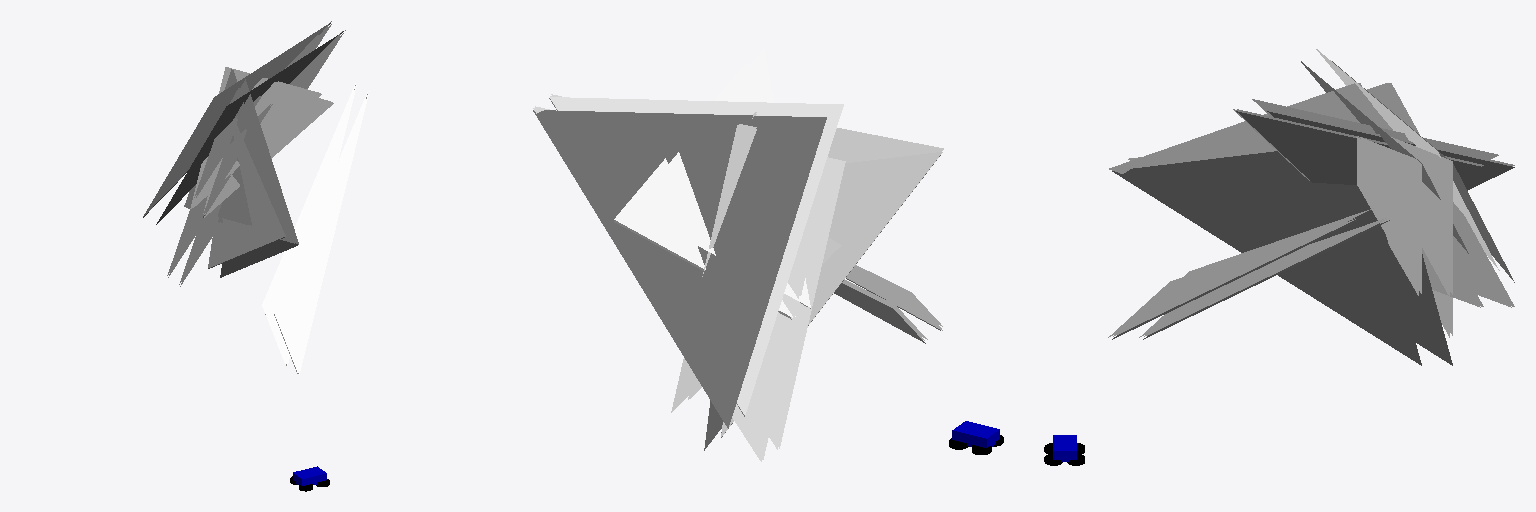
The robot description file, URDF, robot "vehicular":
<?xml version="1.0"?>
<robot name="vehicular" xmlns:xacro="http://www.ros.org/wiki/xacro">

  <!-- Material definitions (matching humanoid) -->
  <material name="blue">
    <color rgba="0 0 0.8 1"/>
  </material>
  <material name="white">
    <color rgba="1 1 1 1"/>
  </material>
  <material name="gray">
    <color rgba="0.5 0.5 0.5 1"/>
  </material>
  <material name="black">
    <color rgba="0 0 0 1"/>
  </material>
  <material name="red">
    <color rgba="0.8 0 0 1"/>
  </material>

  <!-- Base link (shared with humanoid form) -->
  <link name="base_link">
    <visual>
      <geometry>
        <box size="0.1 0.1 0.05"/>
      </geometry>
      <material name="gray"/>
    </visual>
    <collision>
      <geometry>
        <box size="0.1 0.1 0.05"/>
      </geometry>
    </collision>
    <inertial>
      <mass value="1.0"/>
      <inertia ixx="0.01" ixy="0.0" ixz="0.0" iyy="0.01" iyz="0.0" izz="0.01"/>
    </inertial>
  </link>

  <!-- Vehicle Body - compact main chassis -->
  <link name="vehicle_body">
    <visual>
      <geometry>
        <box size="0.6 0.4 0.2"/>
      </geometry>
      <material name="blue"/>
    </visual>
    <collision>
      <geometry>
        <box size="0.6 0.4 0.2"/>
      </geometry>
    </collision>
    <inertial>
      <mass value="15.0"/>
      <inertia ixx="0.3" ixy="0.0" ixz="0.0" iyy="0.2" iyz="0.0" izz="0.15"/>
    </inertial>
  </link>

  <joint name="body_to_base" type="fixed">
    <parent link="base_link"/>
    <child link="vehicle_body"/>
    <origin xyz="0 0 0.1" rpy="0 0 0"/>
  </joint>

  <!-- Front Left Wheel (continuous rotation) -->
  <link name="front_left_wheel">
    <visual>
      <geometry>
        <cylinder length="0.08" radius="0.15"/>
      </geometry>
      <material name="black"/>
    </visual>
    <collision>
      <geometry>
        <cylinder length="0.08" radius="0.14"/>
      </geometry>
    </collision>
    <inertial>
      <mass value="2.0"/>
      <inertia ixx="0.004" ixy="0.0" ixz="0.0" iyy="0.005" iyz="0.0" izz="0.004"/>
    </inertial>
  </link>

  <joint name="front_left_wheel_joint" type="continuous">
    <parent link="vehicle_body"/>
    <child link="front_left_wheel"/>
    <origin xyz="0.2 -0.18 -0.1" rpy="0 0 0"/>
    <axis xyz="0 1 0"/>
  </joint>

  <!-- Front Right Wheel -->
  <link name="front_right_wheel">
    <visual>
      <geometry>
        <cylinder length="0.08" radius="0.15"/>
      </geometry>
      <material name="black"/>
    </visual>
    <collision>
      <geometry>
        <cylinder length="0.08" radius="0.14"/>
      </geometry>
    </collision>
    <inertial>
      <mass value="2.0"/>
      <inertia ixx="0.004" ixy="0.0" ixz="0.0" iyy="0.005" iyz="0.0" izz="0.004"/>
    </inertial>
  </link>

  <joint name="front_right_wheel_joint" type="continuous">
    <parent link="vehicle_body"/>
    <child link="front_right_wheel"/>
    <origin xyz="0.2 0.18 -0.1" rpy="0 0 0"/>
    <axis xyz="0 1 0"/>
  </joint>

  <!-- Rear Left Wheel -->
  <link name="rear_left_wheel">
    <visual>
      <geometry>
        <cylinder length="0.08" radius="0.15"/>
      </geometry>
      <material name="black"/>
    </visual>
    <collision>
      <geometry>
        <cylinder length="0.08" radius="0.14"/>
      </geometry>
    </collision>
    <inertial>
      <mass value="2.0"/>
      <inertia ixx="0.004" ixy="0.0" ixz="0.0" iyy="0.005" iyz="0.0" izz="0.004"/>
    </inertial>
  </link>

  <joint name="rear_left_wheel_joint" type="continuous">
    <parent link="vehicle_body"/>
    <child link="rear_left_wheel"/>
    <origin xyz="-0.2 -0.18 -0.1" rpy="0 0 0"/>
    <axis xyz="0 1 0"/>
  </joint>

  <!-- Rear Right Wheel -->
  <link name="rear_right_wheel">
    <visual>
      <geometry>
        <cylinder length="0.08" radius="0.15"/>
      </geometry>
      <material name="black"/>
    </visual>
    <collision>
      <geometry>
        <cylinder length="0.08" radius="0.14"/>
      </geometry>
    </collision>
    <inertial>
      <mass value="2.0"/>
      <inertia ixx="0.004" ixy="0.0" ixz="0.0" iyy="0.005" iyz="0.0" izz="0.004"/>
    </inertial>
  </link>

  <joint name="rear_right_wheel_joint" type="continuous">
    <parent link="vehicle_body"/>
    <child link="rear_right_wheel"/>
    <origin xyz="-0.2 0.18 -0.1" rpy="0 0 0"/>
    <axis xyz="0 1 0"/>
  </joint>

  <!-- Head Pan Link (sensor mount) -->
  <link name="head_pan_link">
    <visual>
      <geometry>
        <mesh filename="package://transformer_description/meshes/head_base.stl"/>
      </geometry>
      <material name="white"/>
    </visual>
    <collision>
      <geometry>
        <box size="0.1 0.1 0.08"/>
      </geometry>
    </collision>
    <inertial>
      <mass value="1.0"/>
      <inertia ixx="0.005" ixy="0.0" ixz="0.0" iyy="0.005" iyz="0.0" izz="0.003"/>
    </inertial>
  </link>

  <joint name="head_pan" type="revolute">
    <parent link="vehicle_body"/>
    <child link="head_pan_link"/>
    <origin xyz="0 0 0.15" rpy="0 0 0"/>
    <axis xyz="0 0 1"/>
    <limit effort="20" velocity="1.0" lower="-1.57" upper="1.57"/>
  </joint>

  <!-- Head Tilt Link -->
  <link name="head_tilt_link">
    <visual>
      <geometry>
        <mesh filename="package://transformer_description/meshes/head_dome.stl"/>
      </geometry>
      <material name="black"/>
    </visual>
    <collision>
      <geometry>
        <sphere radius="0.08"/>
      </geometry>
    </collision>
    <inertial>
      <mass value="0.5"/>
      <inertia ixx="0.002" ixy="0.0" ixz="0.0" iyy="0.002" iyz="0.0" izz="0.002"/>
    </inertial>
  </link>

  <joint name="head_tilt" type="revolute">
    <parent link="head_pan_link"/>
    <child link="head_tilt_link"/>
    <origin xyz="0 0 0.04" rpy="0 0 0"/>
    <axis xyz="0 1 0"/>
    <limit effort="20" velocity="1.0" lower="-0.5" upper="0.5"/>
  </joint>

  <!-- Left Arm - folded onto vehicle body (tucked position) -->
  <link name="left_shoulder_pitch_link">
    <visual>
      <geometry>
        <mesh filename="package://transformer_description/meshes/shoulder_joint.stl"/>
      </geometry>
      <material name="gray"/>
    </visual>
    <collision>
      <geometry>
        <box size="0.05 0.05 0.08"/>
      </geometry>
    </collision>
    <inertial>
      <mass value="0.5"/>
      <inertia ixx="0.001" ixy="0.0" ixz="0.0" iyy="0.001" iyz="0.0" izz="0.001"/>
    </inertial>
  </link>

  <joint name="left_shoulder_pitch" type="revolute">
    <parent link="vehicle_body"/>
    <child link="left_shoulder_pitch_link"/>
    <origin xyz="0.15 -0.25 0" rpy="0 0 0"/>
    <axis xyz="1 0 0"/>
    <limit effort="30" velocity="1.0" lower="-1.57" upper="1.57"/>
  </joint>

  <link name="left_upper_arm_link">
    <visual>
      <geometry>
        <mesh filename="package://transformer_description/meshes/upper_arm.stl"/>
      </geometry>
      <material name="white"/>
    </visual>
    <collision>
      <geometry>
        <cylinder length="0.12" radius="0.04"/>
      </geometry>
    </collision>
    <inertial>
      <mass value="1.0"/>
      <inertia ixx="0.004" ixy="0.0" ixz="0.0" iyy="0.001" iyz="0.0" izz="0.004"/>
    </inertial>
  </link>

  <joint name="left_shoulder_roll" type="revolute">
    <parent link="left_shoulder_pitch_link"/>
    <child link="left_upper_arm_link"/>
    <origin xyz="0 0 0.04" rpy="0 0 0"/>
    <axis xyz="0 1 0"/>
    <limit effort="30" velocity="1.0" lower="-1.57" upper="1.57"/>
  </joint>

  <link name="left_lower_arm_link">
    <visual>
      <geometry>
        <mesh filename="package://transformer_description/meshes/lower_arm.stl"/>
      </geometry>
      <material name="white"/>
    </visual>
    <collision>
      <geometry>
        <cylinder length="0.1" radius="0.035"/>
      </geometry>
    </collision>
    <inertial>
      <mass value="0.8"/>
      <inertia ixx="0.002" ixy="0.0" ixz="0.0" iyy="0.0005" iyz="0.0" izz="0.002"/>
    </inertial>
  </link>

  <joint name="left_elbow" type="revolute">
    <parent link="left_upper_arm_link"/>
    <child link="left_lower_arm_link"/>
    <origin xyz="0 -0.06 0" rpy="0 0 0"/>
    <axis xyz="1 0 0"/>
    <limit effort="20" velocity="1.0" lower="-1.57" upper="0"/>
  </joint>

  <!-- Right Arm - folded onto vehicle body (tucked position) -->
  <link name="right_shoulder_pitch_link">
    <visual>
      <geometry>
        <mesh filename="package://transformer_description/meshes/shoulder_joint.stl"/>
      </geometry>
      <material name="gray"/>
    </visual>
    <collision>
      <geometry>
        <box size="0.05 0.05 0.08"/>
      </geometry>
    </collision>
    <inertial>
      <mass value="0.5"/>
      <inertia ixx="0.001" ixy="0.0" ixz="0.0" iyy="0.001" iyz="0.0" izz="0.001"/>
    </inertial>
  </link>

  <joint name="right_shoulder_pitch" type="revolute">
    <parent link="vehicle_body"/>
    <child link="right_shoulder_pitch_link"/>
    <origin xyz="0.15 0.25 0" rpy="0 0 0"/>
    <axis xyz="1 0 0"/>
    <limit effort="30" velocity="1.0" lower="-1.57" upper="1.57"/>
  </joint>

  <link name="right_upper_arm_link">
    <visual>
      <geometry>
        <mesh filename="package://transformer_description/meshes/upper_arm.stl"/>
      </geometry>
      <material name="white"/>
    </visual>
    <collision>
      <geometry>
        <cylinder length="0.12" radius="0.04"/>
      </geometry>
    </collision>
    <inertial>
      <mass value="1.0"/>
      <inertia ixx="0.004" ixy="0.0" ixz="0.0" iyy="0.001" iyz="0.0" izz="0.004"/>
    </inertial>
  </link>

  <joint name="right_shoulder_roll" type="revolute">
    <parent link="right_shoulder_pitch_link"/>
    <child link="right_upper_arm_link"/>
    <origin xyz="0 0 0.04" rpy="0 0 0"/>
    <axis xyz="0 1 0"/>
    <limit effort="30" velocity="1.0" lower="-1.57" upper="1.57"/>
  </joint>

  <link name="right_lower_arm_link">
    <visual>
      <geometry>
        <mesh filename="package://transformer_description/meshes/lower_arm.stl"/>
      </geometry>
      <material name="white"/>
    </visual>
    <collision>
      <geometry>
        <cylinder length="0.1" radius="0.035"/>
      </geometry>
    </collision>
    <inertial>
      <mass value="0.8"/>
      <inertia ixx="0.002" ixy="0.0" ixz="0.0" iyy="0.0005" iyz="0.0" izz="0.002"/>
    </inertial>
  </link>

  <joint name="right_elbow" type="revolute">
    <parent link="right_upper_arm_link"/>
    <child link="right_lower_arm_link"/>
    <origin xyz="0 -0.06 0" rpy="0 0 0"/>
    <axis xyz="1 0 0"/>
    <limit effort="20" velocity="1.0" lower="-1.57" upper="0"/>
  </joint>

  <!-- Transmissions for ROS2 Control -->
  <!-- Wheel transmissions (continuous joints use velocity interface) -->
  <transmission name="front_left_wheel_trans">
    <type>transmission_interface/SimpleTransmission</type>
    <joint name="front_left_wheel_joint">
      <hardwareInterface>hardware_interface/VelocityJointInterface</hardwareInterface>
    </joint>
    <actuator name="front_left_wheel_motor">
      <hardwareInterface>hardware_interface/VelocityJointInterface</hardwareInterface>
      <mechanicalReduction>1</mechanicalReduction>
    </actuator>
  </transmission>

  <transmission name="front_right_wheel_trans">
    <type>transmission_interface/SimpleTransmission</type>
    <joint name="front_right_wheel_joint">
      <hardwareInterface>hardware_interface/VelocityJointInterface</hardwareInterface>
    </joint>
    <actuator name="front_right_wheel_motor">
      <hardwareInterface>hardware_interface/VelocityJointInterface</hardwareInterface>
      <mechanicalReduction>1</mechanicalReduction>
    </actuator>
  </transmission>

  <transmission name="rear_left_wheel_trans">
    <type>transmission_interface/SimpleTransmission</type>
    <joint name="rear_left_wheel_joint">
      <hardwareInterface>hardware_interface/VelocityJointInterface</hardwareInterface>
    </joint>
    <actuator name="rear_left_wheel_motor">
      <hardwareInterface>hardware_interface/VelocityJointInterface</hardwareInterface>
      <mechanicalReduction>1</mechanicalReduction>
    </actuator>
  </transmission>

  <transmission name="rear_right_wheel_trans">
    <type>transmission_interface/SimpleTransmission</type>
    <joint name="rear_right_wheel_joint">
      <hardwareInterface>hardware_interface/VelocityJointInterface</hardwareInterface>
    </joint>
    <actuator name="rear_right_wheel_motor">
      <hardwareInterface>hardware_interface/VelocityJointInterface</hardwareInterface>
      <mechanicalReduction>1</mechanicalReduction>
    </actuator>
  </transmission>

  <!-- Head transmissions (same as humanoid) -->
  <transmission name="head_pan_trans">
    <type>transmission_interface/SimpleTransmission</type>
    <joint name="head_pan">
      <hardwareInterface>hardware_interface/EffortJointInterface</hardwareInterface>
    </joint>
    <actuator name="head_pan_motor">
      <hardwareInterface>hardware_interface/EffortJointInterface</hardwareInterface>
      <mechanicalReduction>1</mechanicalReduction>
    </actuator>
  </transmission>

  <transmission name="head_tilt_trans">
    <type>transmission_interface/SimpleTransmission</type>
    <joint name="head_tilt">
      <hardwareInterface>hardware_interface/EffortJointInterface</hardwareInterface>
    </joint>
    <actuator name="head_tilt_motor">
      <hardwareInterface>hardware_interface/EffortJointInterface</hardwareInterface>
      <mechanicalReduction>1</mechanicalReduction>
    </actuator>
  </transmission>

  <!-- Arm transmissions (for folded arms) -->
  <transmission name="left_shoulder_pitch_trans">
    <type>transmission_interface/SimpleTransmission</type>
    <joint name="left_shoulder_pitch">
      <hardwareInterface>hardware_interface/EffortJointInterface</hardwareInterface>
    </joint>
    <actuator name="left_shoulder_pitch_motor">
      <hardwareInterface>hardware_interface/EffortJointInterface</hardwareInterface>
      <mechanicalReduction>1</mechanicalReduction>
    </actuator>
  </transmission>

  <transmission name="left_shoulder_roll_trans">
    <type>transmission_interface/SimpleTransmission</type>
    <joint name="left_shoulder_roll">
      <hardwareInterface>hardware_interface/EffortJointInterface</hardwareInterface>
    </joint>
    <actuator name="left_shoulder_roll_motor">
      <hardwareInterface>hardware_interface/EffortJointInterface</hardwareInterface>
      <mechanicalReduction>1</mechanicalReduction>
    </actuator>
  </transmission>

  <transmission name="left_elbow_trans">
    <type>transmission_interface/SimpleTransmission</type>
    <joint name="left_elbow">
      <hardwareInterface>hardware_interface/EffortJointInterface</hardwareInterface>
    </joint>
    <actuator name="left_elbow_motor">
      <hardwareInterface>hardware_interface/EffortJointInterface</hardwareInterface>
      <mechanicalReduction>1</mechanicalReduction>
    </actuator>
  </transmission>

  <transmission name="right_shoulder_pitch_trans">
    <type>transmission_interface/SimpleTransmission</type>
    <joint name="right_shoulder_pitch">
      <hardwareInterface>hardware_interface/EffortJointInterface</hardwareInterface>
    </joint>
    <actuator name="right_shoulder_pitch_motor">
      <hardwareInterface>hardware_interface/EffortJointInterface</hardwareInterface>
      <mechanicalReduction>1</mechanicalReduction>
    </actuator>
  </transmission>

  <transmission name="right_shoulder_roll_trans">
    <type>transmission_interface/SimpleTransmission</type>
    <joint name="right_shoulder_roll">
      <hardwareInterface>hardware_interface/EffortJointInterface</hardwareInterface>
    </joint>
    <actuator name="right_shoulder_roll_motor">
      <hardwareInterface>hardware_interface/EffortJointInterface</hardwareInterface>
      <mechanicalReduction>1</mechanicalReduction>
    </actuator>
  </transmission>

  <transmission name="right_elbow_trans">
    <type>transmission_interface/SimpleTransmission</type>
    <joint name="right_elbow">
      <hardwareInterface>hardware_interface/EffortJointInterface</hardwareInterface>
    </joint>
    <actuator name="right_elbow_motor">
      <hardwareInterface>hardware_interface/EffortJointInterface</hardwareInterface>
      <mechanicalReduction>1</mechanicalReduction>
    </actuator>
  </transmission>

</robot>

--- What the picture shows (computed from the rendered views, not written in the file) ---
3 views of the same robot in one strip: view 1: azimuth 30°, elevation 25°; view 2: azimuth 150°, elevation 25°; view 3: azimuth 270°, elevation 25° (orthographic).
Model vehicular with 14 links and 13 joints (8 revolute, 4 continuous, 1 fixed), rooted at base_link, posed all joints at 0.
Links seen in each view (by area): view 1: head_pan_link, left_lower_arm_link, left_upper_arm_link, left_shoulder_pitch_link, right_upper_arm_link, right_lower_arm_link; view 2: right_shoulder_pitch_link, head_pan_link, right_upper_arm_link, left_upper_arm_link, left_lower_arm_link, vehicle_body, right_lower_arm_link; view 3: left_shoulder_pitch_link, left_lower_arm_link, right_lower_arm_link, right_shoulder_pitch_link, head_pan_link, right_upper_arm_link, left_upper_arm_link, vehicle_body.
Link boxes in pixels (bbox=[...]): head_pan_link: bbox=[143, 23, 355, 364]; left_lower_arm_link: bbox=[180, 30, 369, 374]; left_upper_arm_link: bbox=[179, 31, 367, 372]; left_shoulder_pitch_link: bbox=[156, 31, 367, 373]; right_upper_arm_link: bbox=[167, 21, 355, 301]; right_lower_arm_link: bbox=[168, 24, 356, 365]; right_shoulder_pitch_link: bbox=[533, 110, 925, 450]; head_pan_link: bbox=[550, 53, 942, 436]; right_upper_arm_link: bbox=[533, 63, 924, 461]; left_upper_arm_link: bbox=[550, 51, 941, 449]; left_lower_arm_link: bbox=[551, 50, 943, 448]; vehicle_body: bbox=[952, 421, 999, 447]; right_lower_arm_link: bbox=[535, 62, 927, 459]; left_shoulder_pitch_link: bbox=[1112, 61, 1483, 365]; left_lower_arm_link: bbox=[1108, 83, 1480, 337]; right_lower_arm_link: bbox=[1139, 83, 1511, 337]; right_shoulder_pitch_link: bbox=[1143, 61, 1514, 365]; head_pan_link: bbox=[1128, 49, 1499, 276]; right_upper_arm_link: bbox=[1144, 83, 1514, 336]; left_upper_arm_link: bbox=[1113, 83, 1483, 336]; vehicle_body: bbox=[1053, 435, 1076, 461].
Size in the robot's own frame: 4.5 by 7.58 by 7.29 metres.
7 mesh visuals loaded from 5 distinct referenced files (4 ASCII STL); not drawn: 1 (file found but could not be loaded).
